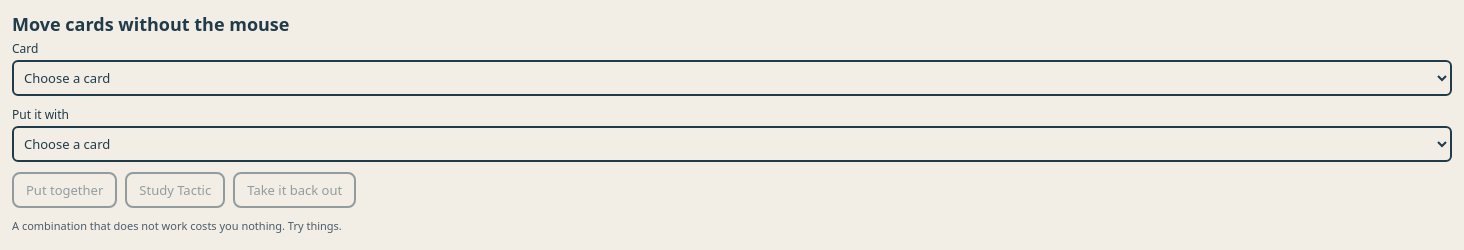
it: AccessibleCardControls › enables Study Tactic for an eligible staffer and a Tactic
Select "Policy Aide" in the dropdown with test id "controls-source" at (732, 78), box [12,60,1452,96]
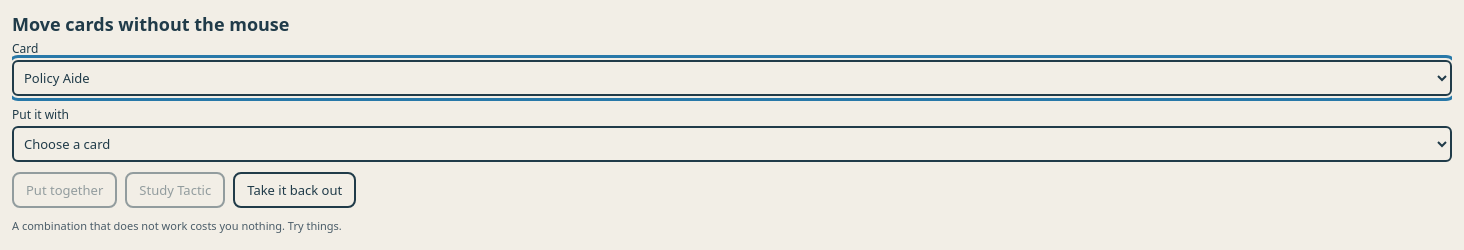
Select "Bipartisan Working Group" in the dropdown with test id "controls-target" at (732, 144), box [12,126,1452,162]
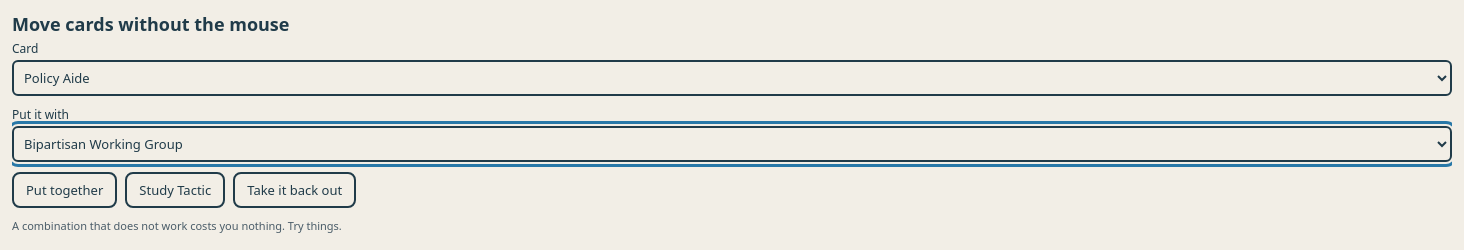
Expected: the button with test id "controls-study" is enabled, [125,172,225,208]
